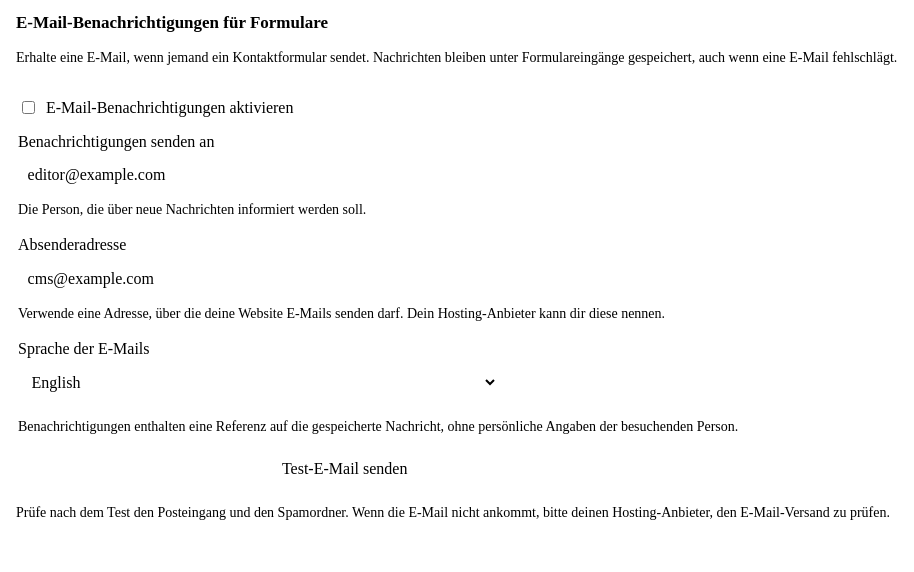
it: form email settings › shows a translated transport failure and keeps entered settings
What coordinates should you click on to do the following:
click the button "Test-E-Mail senden"
I would click on:
 (345, 469)
Its box is [266,450,423,488].
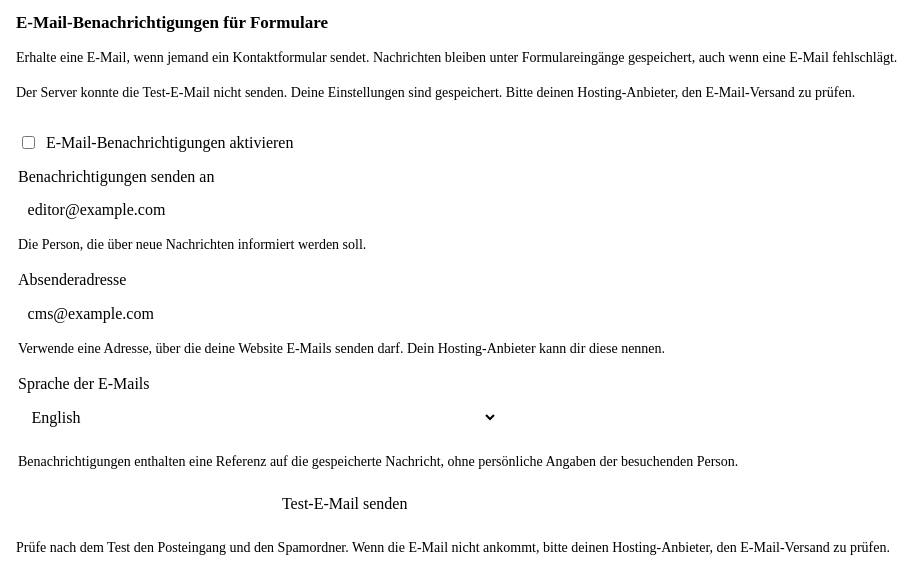
Expected: the field labelled "Benachrichtigungen senden an" holds "editor@example.com", [18,192,498,229]
Result: the message shows "Deine Einstellungen sind gespeichert" at [16,85,855,100]
